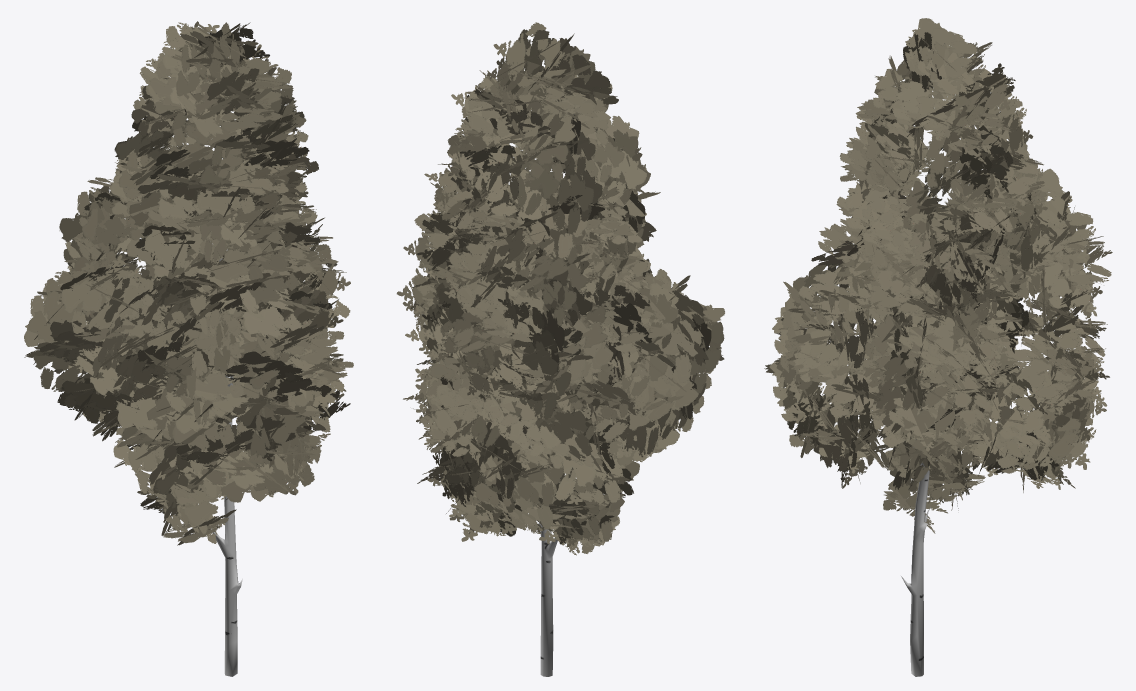
The model's file is tree3.fbx.
The picture shows the model from 3 angles, left to right: view 1: azimuth 30°, elevation 25°; view 2: azimuth 150°, elevation 25°; view 3: azimuth 270°, elevation 25°; orthographic projection.
Parts seen in each view (by area): view 1: Без имени-1.1489, Cylinder.003; view 2: Без имени-1.1489, Cylinder.003; view 3: Без имени-1.1489, Cylinder.003.
Boxes of the visible parts, x1,y1,x2,y2 form: Без имени-1.1489: (24,21,353,545); Cylinder.003: (211,243,242,676); Без имени-1.1489: (396,22,724,555); Cylinder.003: (530,446,557,676); Без имени-1.1489: (764,18,1112,533); Cylinder.003: (901,439,931,676).
Bounding box in the file's own units: 799 × 1560 × 794.
